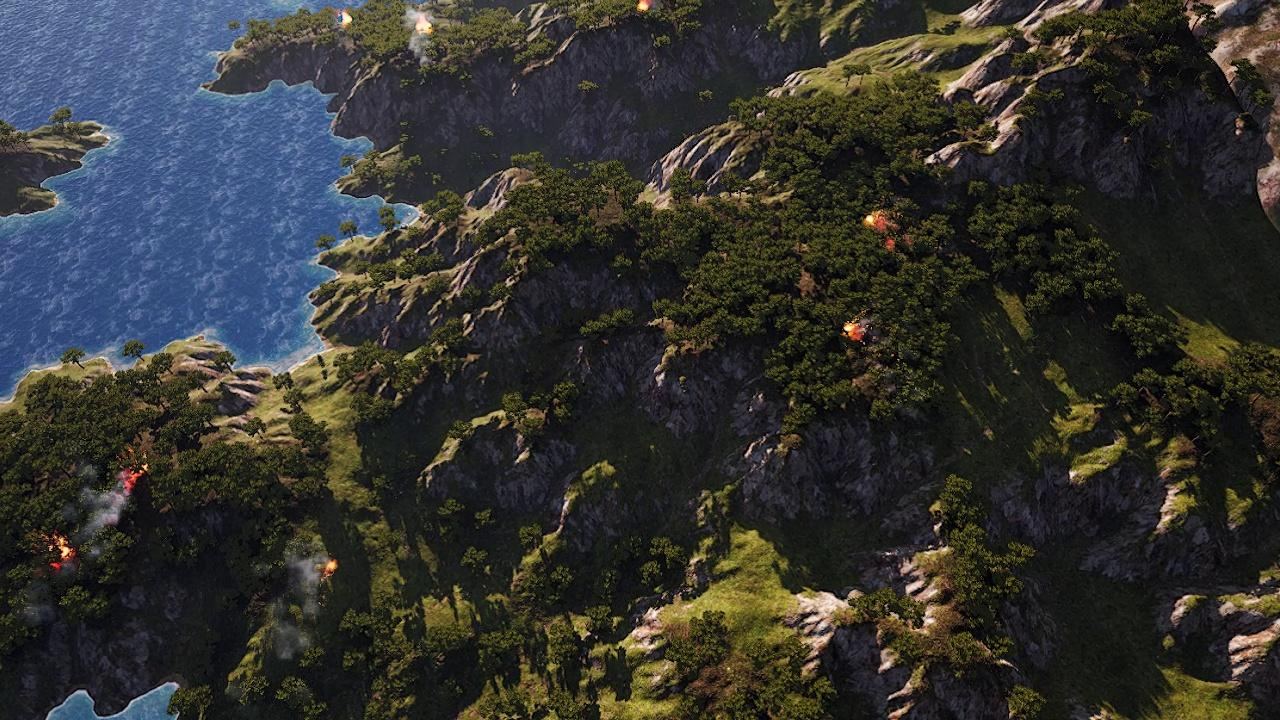fire: (47, 534, 77, 567), (839, 318, 868, 343), (120, 462, 148, 487), (411, 12, 435, 38), (865, 207, 885, 229), (320, 560, 339, 577), (637, 0, 651, 17)
smoke: (272, 548, 335, 657), (83, 485, 135, 555), (404, 0, 442, 78)
